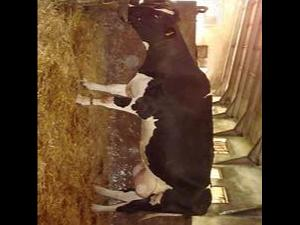cow: (74, 1, 215, 222)
